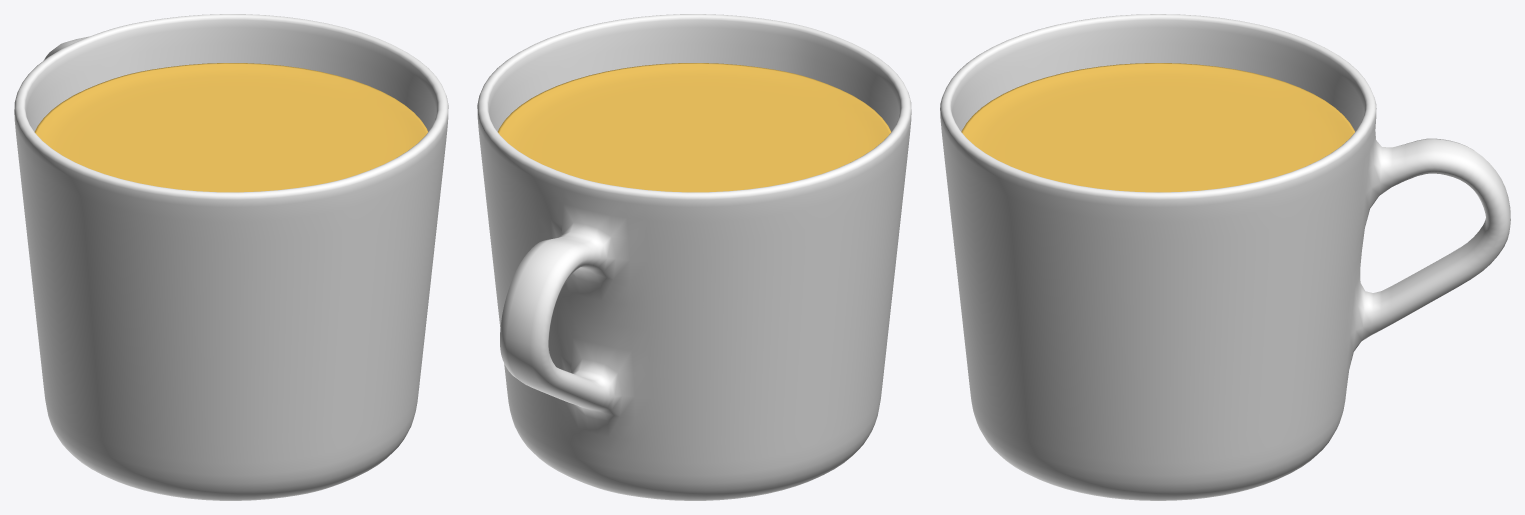
The model's file is tea_mug.fbx.
3 views of the same model, side by side, from view 1: azimuth 30°, elevation 25°; view 2: azimuth 150°, elevation 25°; view 3: azimuth 270°, elevation 25° (orthographic).
Visible parts, largest first — view 1: Glass_Mug, Full; view 2: Glass_Mug, Full; view 3: Glass_Mug, Full.
Part boxes in pixels (x1,y1,x2,y2): Glass_Mug: (14,14,448,500); Full: (34,63,427,192); Glass_Mug: (477,14,911,500); Full: (498,63,891,192); Glass_Mug: (940,14,1510,500); Full: (961,63,1354,192).
Bounding box in the file's own units: 10.07 × 8.48 × 13.23.
